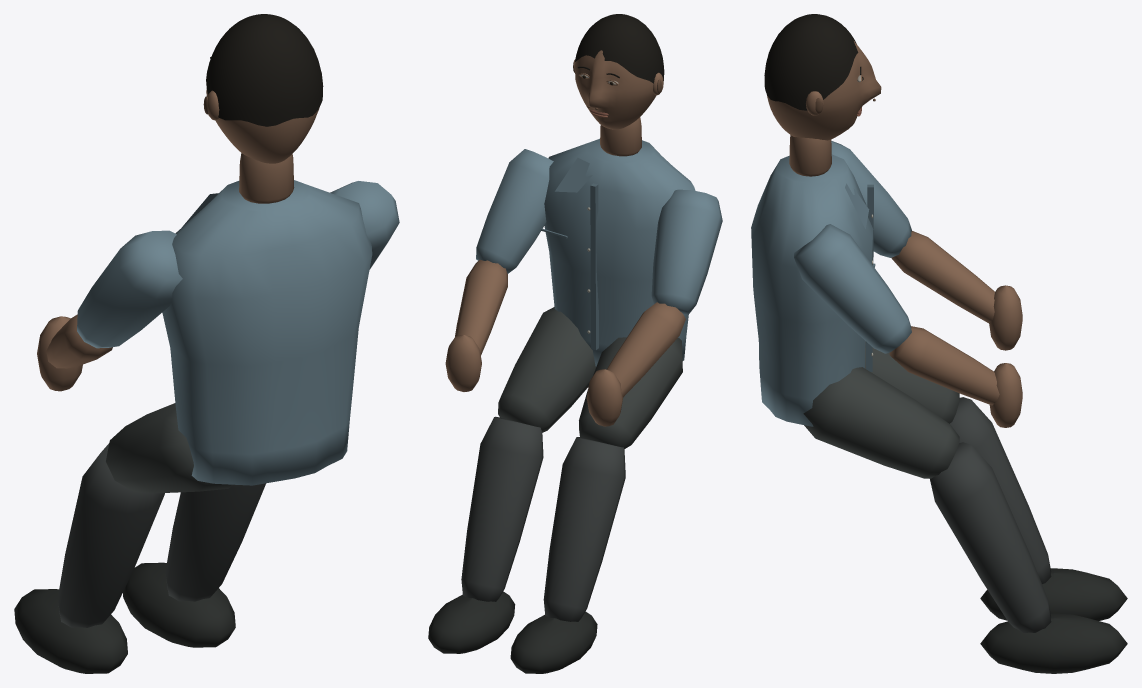
Rendered from passenger_seated_man.glb.
3 renders of one model, left to right at view 1: azimuth 30°, elevation 25°; view 2: azimuth 150°, elevation 25°; view 3: azimuth 270°, elevation 25°, orthographic. The views are drawn at different scales.
Parts seen in each view (by area): view 1: passenger_seated_man; view 2: passenger_seated_man; view 3: passenger_seated_man.
Part boxes in pixels (bbox=[...]): passenger_seated_man: bbox=[14, 14, 399, 673]; passenger_seated_man: bbox=[428, 14, 722, 673]; passenger_seated_man: bbox=[751, 14, 1127, 673].
Bounding box in the file's own units: 0.5566 × 1.36 × 0.74.
